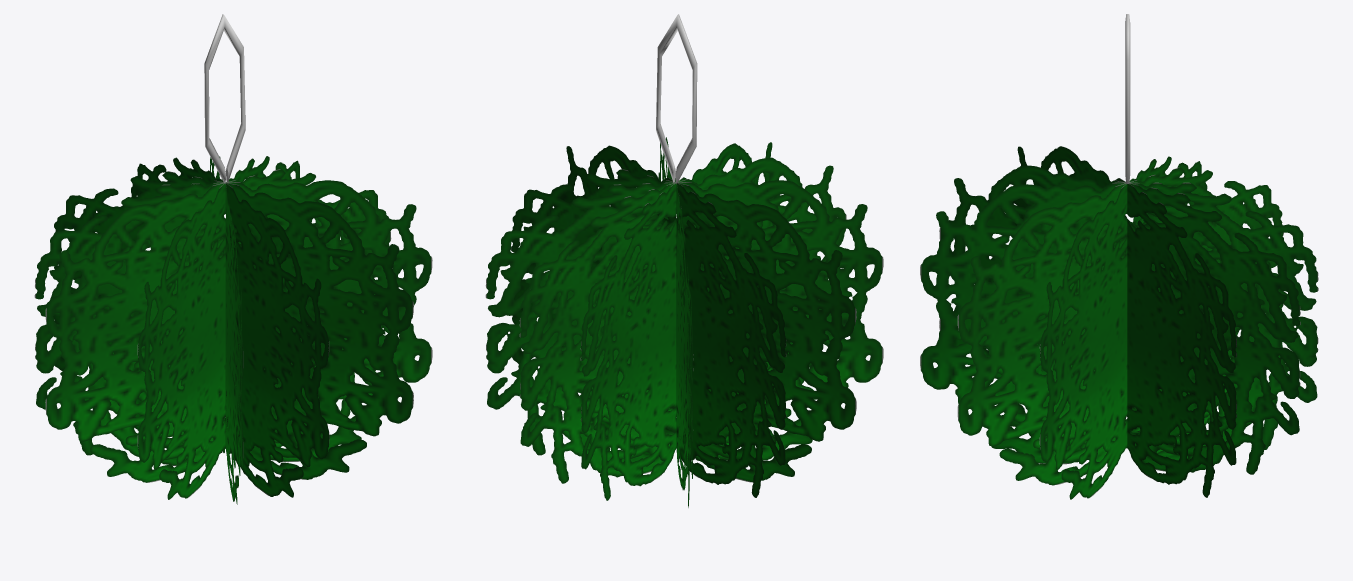
Rendered from Loofah_D.FBX.
The picture shows the model from 3 angles, left to right: view 1: azimuth 30°, elevation 25°; view 2: azimuth 150°, elevation 25°; view 3: azimuth 270°, elevation 25°; orthographic projection.
Parts seen in each view (by area): view 1: Loofah; view 2: Loofah; view 3: Loofah.
Part boxes in pixels (x1=…): Loofah: x1=34, y1=14, x2=432, y2=504; Loofah: x1=485, y1=14, x2=883, y2=507; Loofah: x1=920, y1=14, x2=1318, y2=499.
Bounding box in the file's own units: 30 × 36.22 × 30.
